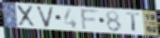4: (64, 8, 78, 30)
8: (105, 10, 123, 33)
F: (80, 9, 101, 30)
T: (125, 12, 141, 33)
V: (35, 6, 54, 29)
X: (17, 4, 37, 28)
